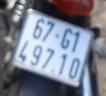0: (67, 56, 82, 80)
1: (68, 29, 84, 54), (56, 52, 70, 76)
4: (17, 38, 34, 63)
6: (31, 16, 47, 41)
7: (40, 46, 59, 71), (40, 19, 58, 44)
9: (29, 43, 46, 67)
G: (58, 25, 76, 50)
